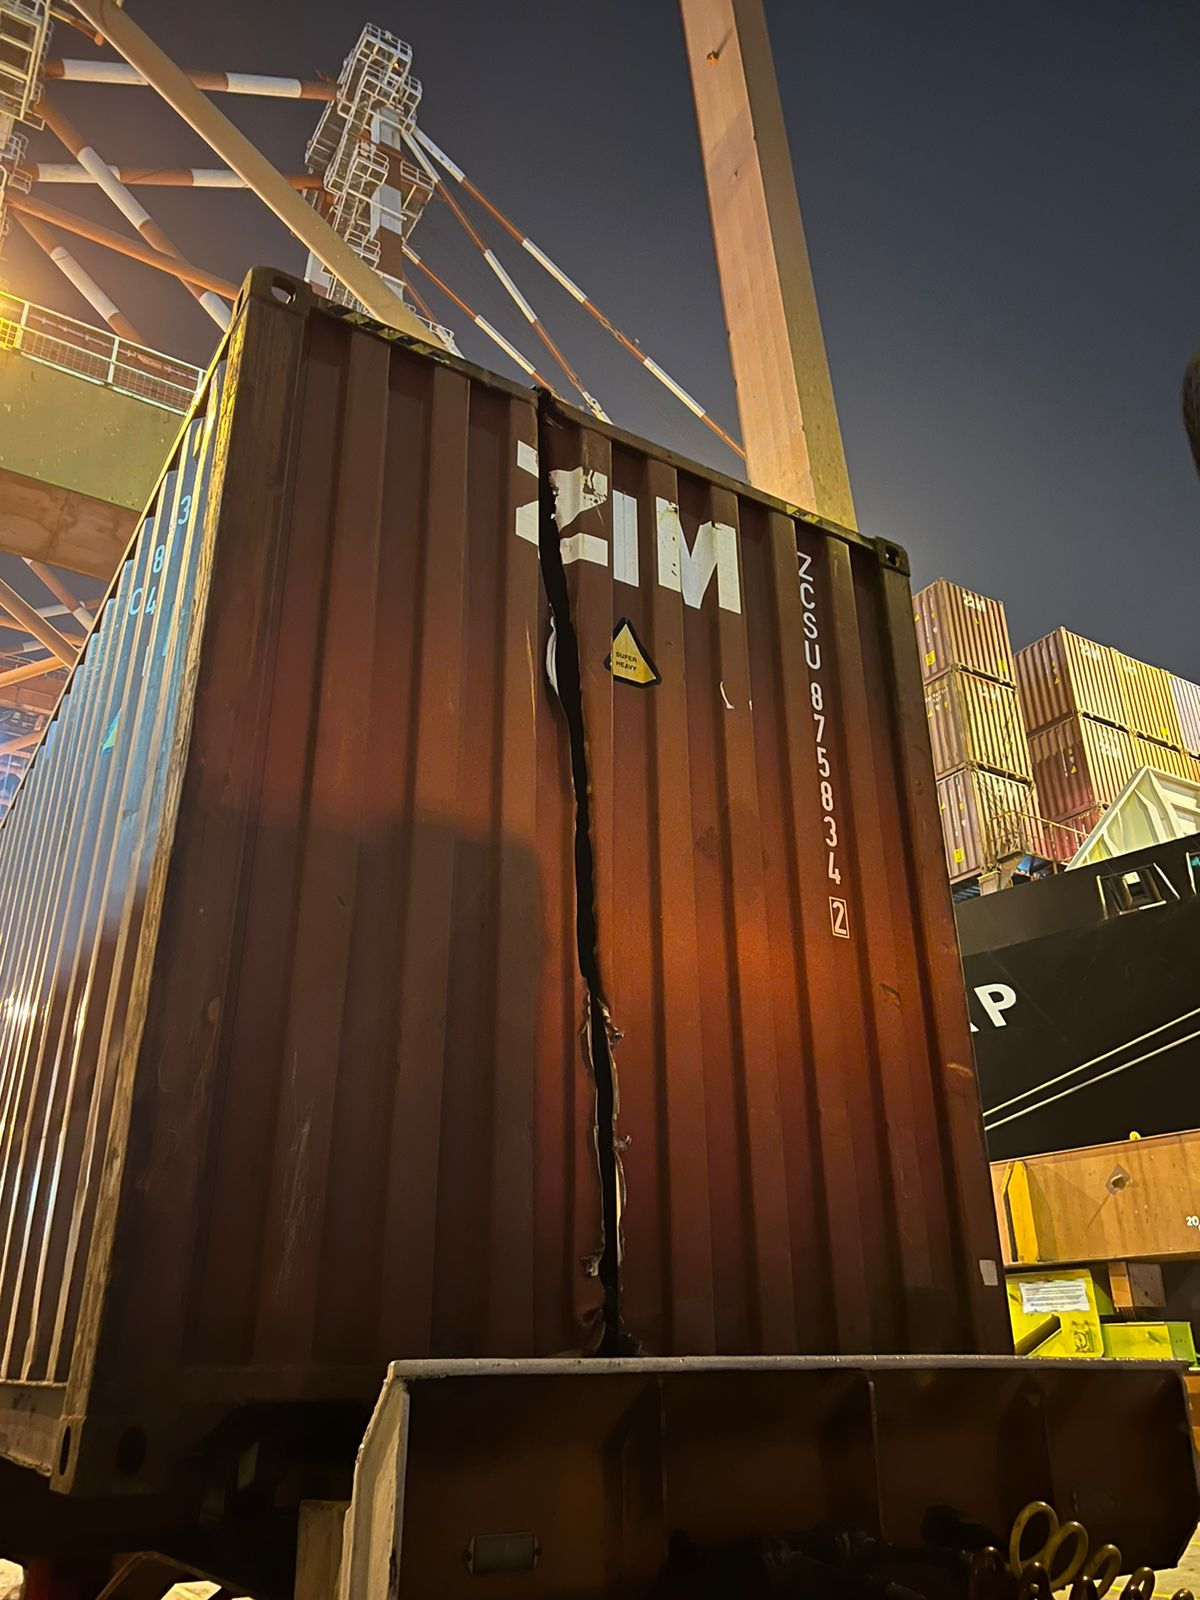cut: (483, 396, 647, 1284)
